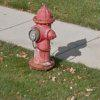Hydrant: (23, 1, 63, 82)
